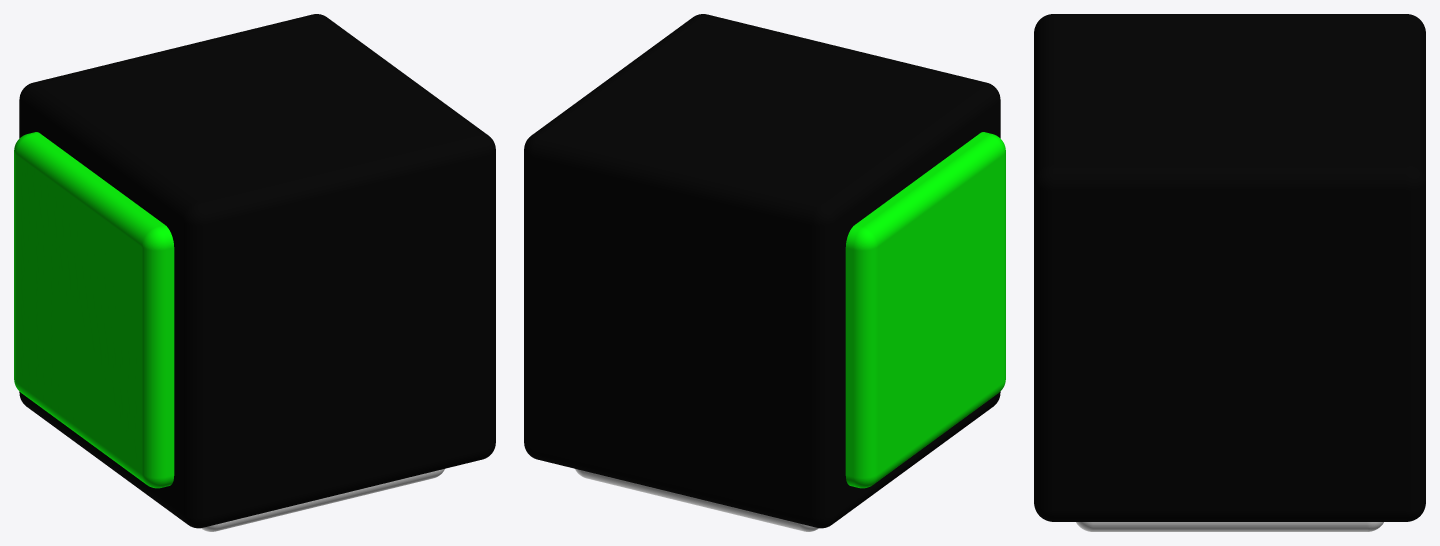
File: cubinho(1, -1, 0).obj
3 views of the same model, side by side, from view 1: azimuth 30°, elevation 25°; view 2: azimuth 150°, elevation 25°; view 3: azimuth 270°, elevation 25° (orthographic). The views are drawn at different scales.
Parts seen in each view (by area): view 1: (1,_-1,_0); view 2: (1,_-1,_0); view 3: (1,_-1,_0).
Boxes of the visible parts, x1=… form: (1,_-1,_0): x1=14, y1=14, x2=495, y2=531; (1,_-1,_0): x1=524, y1=14, x2=1005, y2=531; (1,_-1,_0): x1=1034, y1=14, x2=1425, y2=531.
Bounding box in the file's own units: 2.15 × 2.15 × 2.
